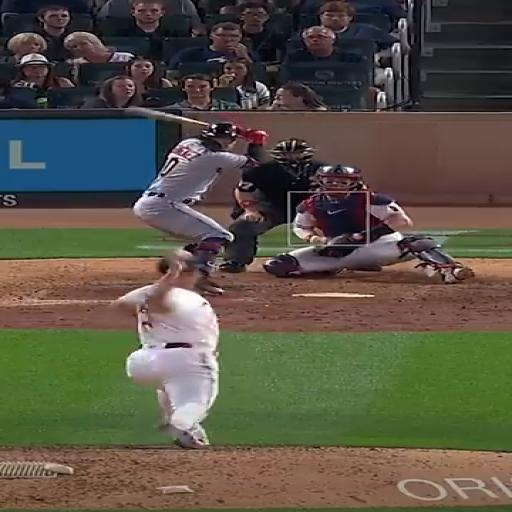bat: (127, 107, 209, 126)
